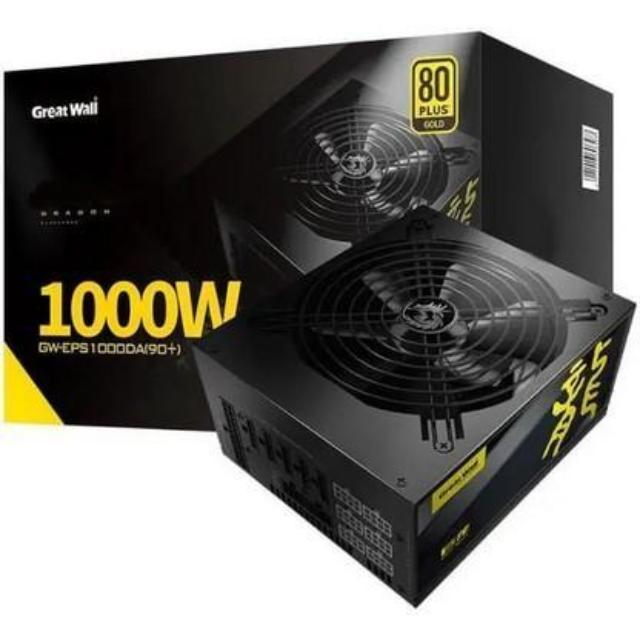PSU: (187, 203, 639, 617)
